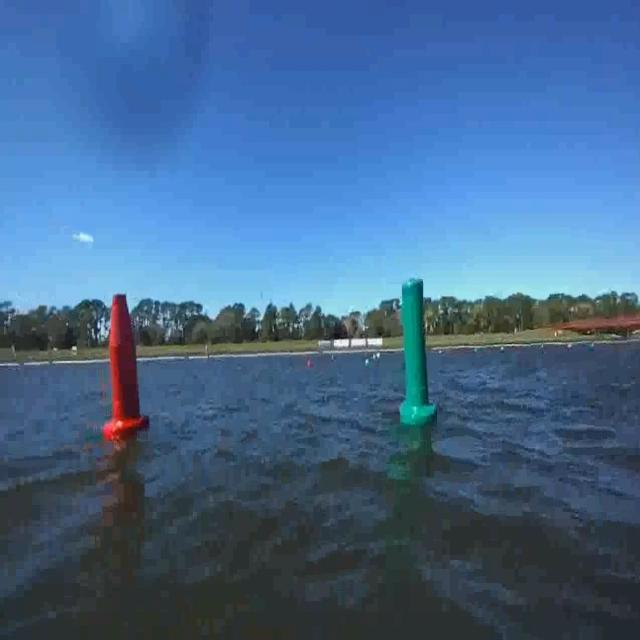green-column-buoy: (400, 276, 438, 424)
red-column-buoy: (106, 290, 148, 440)
